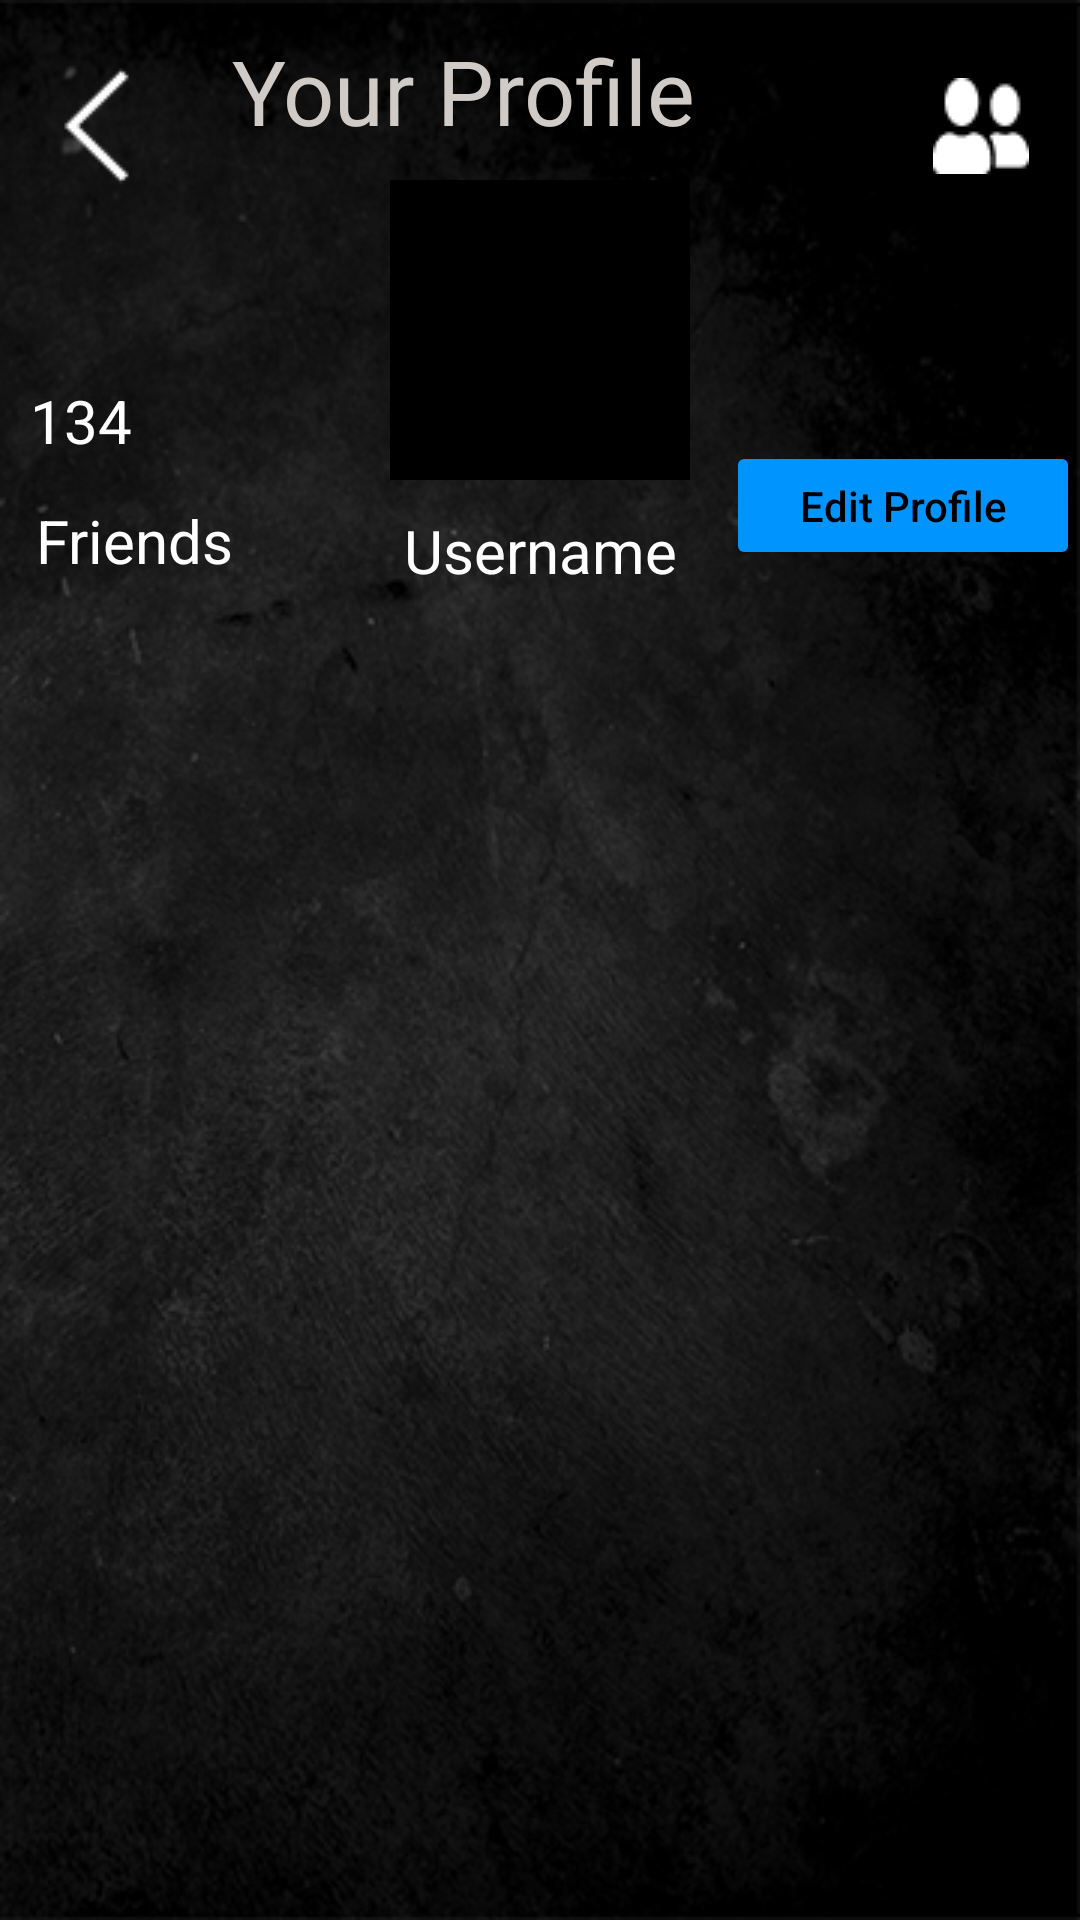

Locate icon controls on the screen. Image size 1080x1920, boxes as (x1, y1, x2, y2).
backbutton: (63, 69, 129, 182)
friends: (933, 78, 1029, 174)
